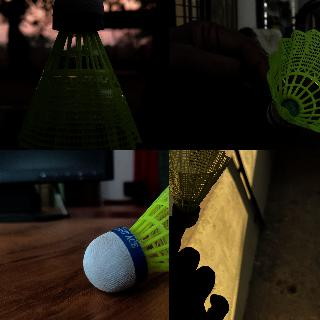shuttlecock: (14, 0, 142, 149), (82, 158, 168, 296), (266, 29, 319, 135), (169, 150, 230, 229)
